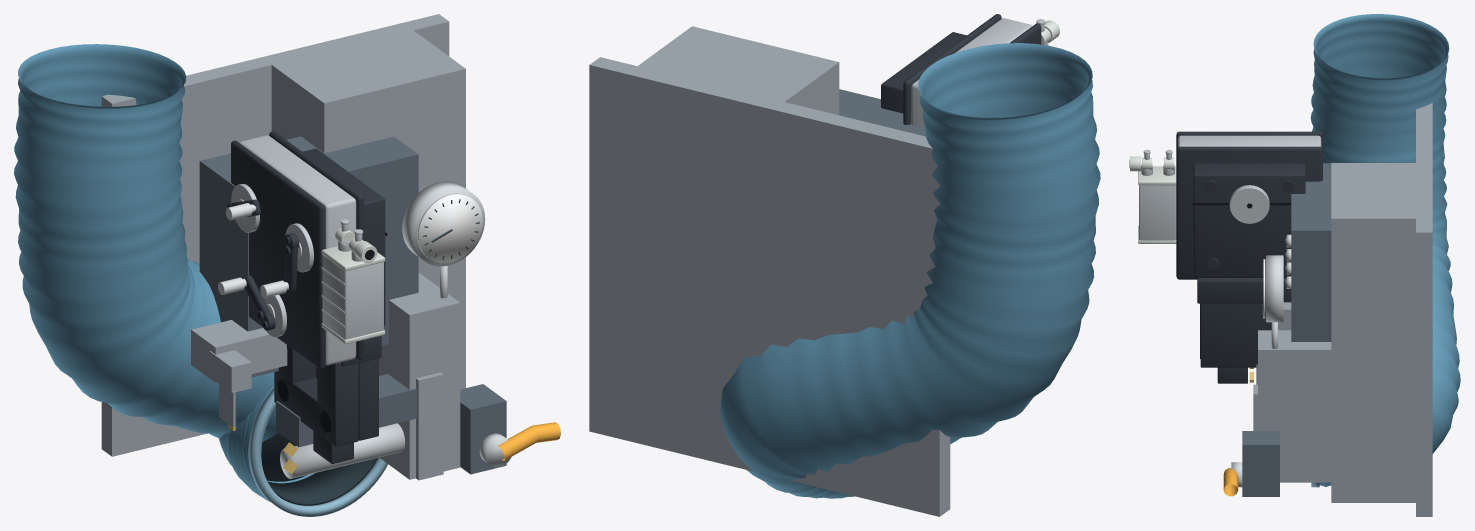
Rendered from carriage.glb.
The picture shows the model from 3 angles, left to right: view 1: azimuth 30°, elevation 25°; view 2: azimuth 150°, elevation 25°; view 3: azimuth 270°, elevation 25°; orthographic projection. The views are drawn at different scales.
Parts seen in each view (by area): view 1: HOSE_BODY, Base column, 300mm assembly backing, Main gang block, AUTOLINK_FRONT_PLATE, Lower gang support, AUTOLINK_SILVER_BODY_BAND, AUTOLINK_PNEUMATIC_CYLINDER, Dial gauge face, Parting attachment, Lever bracket, HOSE_MOUTH (+19 smaller); view 2: 300mm assembly backing, HOSE_BODY, Base column, Main gang block, AUTOLINK_REAR_CLAMP_BLOCK, AUTOLINK_SILVER_BODY_BAND, AUTOLINK_REAR_PLATE; view 3: Base column, HOSE_BODY, Lower gang support, AUTOLINK_REAR_CLAMP_BLOCK, 300mm assembly backing, Main gang block, AUTOLINK_REAR_PLATE, AUTOLINK_MOUNT_BACK, Lever bracket, AUTOLINK_PNEUMATIC_CYLINDER, AUTOLINK_MOUNT_CROSS_BLOCK, AUTOLINK_SILVER_BODY_BAND (+6 smaller).
Part boxes in pixels (bbox=[...]): HOSE_BODY: bbox=[14, 44, 315, 501]; Base column: bbox=[266, 26, 465, 389]; 300mm assembly backing: bbox=[101, 14, 449, 456]; Main gang block: bbox=[199, 136, 418, 377]; AUTOLINK_FRONT_PLATE: bbox=[231, 140, 325, 369]; Lower gang support: bbox=[379, 272, 460, 479]; AUTOLINK_SILVER_BODY_BAND: bbox=[239, 135, 356, 365]; AUTOLINK_PNEUMATIC_CYLINDER: bbox=[322, 255, 383, 339]; Dial gauge face: bbox=[417, 193, 482, 263]; Parting attachment: bbox=[191, 320, 287, 382]; Lever bracket: bbox=[460, 384, 506, 474]; HOSE_MOUTH: bbox=[248, 388, 388, 516]; 300mm assembly backing: bbox=[589, 57, 950, 516]; HOSE_BODY: bbox=[720, 43, 1100, 498]; Base column: bbox=[632, 26, 839, 114]; Main gang block: bbox=[838, 89, 925, 136]; AUTOLINK_REAR_CLAMP_BLOCK: bbox=[881, 32, 966, 113]; AUTOLINK_SILVER_BODY_BAND: bbox=[911, 18, 1032, 128]; AUTOLINK_REAR_PLATE: bbox=[903, 14, 1001, 124]; Base column: bbox=[1331, 163, 1425, 502]; HOSE_BODY: bbox=[1310, 14, 1460, 486]; Lower gang support: bbox=[1258, 330, 1331, 482]; AUTOLINK_REAR_CLAMP_BLOCK: bbox=[1193, 163, 1305, 277]; 300mm assembly backing: bbox=[1416, 103, 1432, 516]; Main gang block: bbox=[1291, 163, 1331, 341]; AUTOLINK_REAR_PLATE: bbox=[1176, 146, 1322, 279]; AUTOLINK_MOUNT_BACK: bbox=[1200, 303, 1271, 367]; Lever bracket: bbox=[1242, 431, 1279, 496]; AUTOLINK_PNEUMATIC_CYLINDER: bbox=[1139, 185, 1176, 240]; AUTOLINK_MOUNT_CROSS_BLOCK: bbox=[1197, 278, 1291, 303]; AUTOLINK_SILVER_BODY_BAND: bbox=[1178, 135, 1321, 146].
Bounding box in the file's own units: 398 × 390 × 317.
